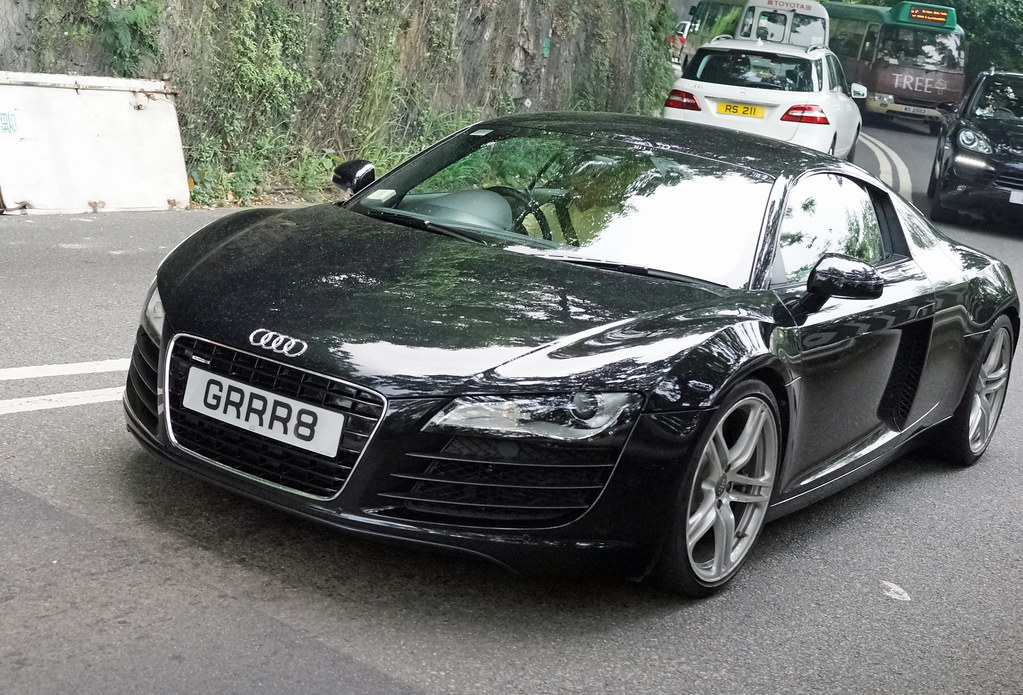number_plates: (191, 374, 331, 451)
